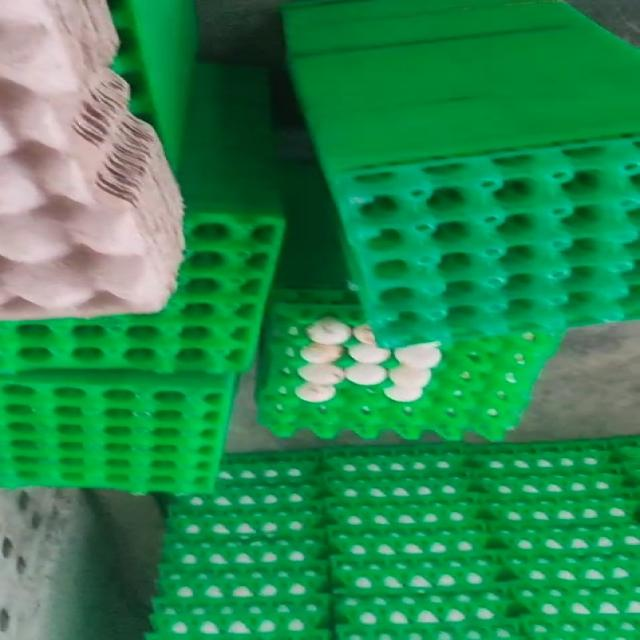egg_tray: (155, 439, 639, 639), (325, 439, 639, 639), (333, 137, 636, 343), (324, 439, 639, 589), (0, 213, 280, 373), (260, 303, 560, 439), (333, 529, 636, 637), (154, 453, 328, 638), (325, 441, 636, 541), (324, 438, 637, 536), (332, 500, 639, 593), (0, 371, 234, 492), (324, 438, 639, 526), (336, 549, 636, 625), (324, 441, 636, 507), (329, 501, 502, 596), (162, 506, 325, 605), (181, 213, 283, 370), (276, 307, 441, 404), (337, 587, 639, 639), (154, 547, 328, 637), (108, 0, 193, 165), (171, 452, 323, 544), (158, 532, 328, 614), (333, 550, 637, 594), (324, 437, 639, 478), (159, 532, 327, 607), (296, 317, 441, 402), (165, 519, 325, 577), (163, 550, 327, 605), (337, 590, 513, 638), (515, 572, 639, 637), (175, 485, 321, 540), (153, 595, 329, 639), (339, 615, 639, 639), (333, 556, 502, 595), (108, 0, 157, 130), (503, 523, 639, 562), (482, 492, 636, 526), (324, 444, 471, 479), (498, 550, 636, 586), (217, 451, 321, 489), (337, 620, 524, 639), (526, 613, 639, 639), (147, 630, 214, 639), (352, 574, 374, 592), (260, 540, 283, 556), (601, 605, 637, 614), (165, 585, 189, 596), (541, 532, 561, 544), (304, 630, 329, 639), (262, 545, 274, 562), (406, 541, 419, 553), (434, 545, 450, 553), (498, 527, 509, 538), (529, 565, 541, 575), (272, 632, 289, 639), (245, 632, 262, 639), (406, 541, 419, 550), (218, 633, 237, 639), (572, 480, 584, 488), (210, 554, 222, 562), (205, 590, 220, 596), (214, 559, 228, 565), (356, 547, 366, 554), (260, 590, 274, 595), (574, 607, 584, 614), (394, 611, 403, 618), (459, 545, 470, 550), (486, 635, 499, 639), (597, 481, 607, 486), (181, 623, 191, 628), (629, 440, 636, 447), (337, 571, 344, 578), (265, 557, 277, 561), (522, 544, 530, 550), (261, 627, 272, 631), (632, 532, 636, 543), (522, 544, 529, 550), (451, 512, 458, 518), (434, 542, 441, 548), (550, 483, 558, 488), (208, 554, 212, 562), (420, 635, 428, 639), (410, 541, 416, 546), (351, 575, 356, 580), (242, 560, 250, 563), (621, 635, 633, 637), (295, 552, 301, 556), (157, 608, 161, 614), (613, 635, 624, 637), (427, 534, 432, 538), (594, 608, 598, 613), (291, 628, 301, 630), (341, 582, 345, 587), (283, 368, 287, 373), (191, 521, 195, 526), (474, 635, 493, 636), (549, 546, 558, 548), (201, 522, 205, 526), (441, 549, 445, 552), (352, 571, 355, 575), (465, 548, 470, 550), (620, 635, 625, 637), (185, 562, 189, 564), (426, 635, 430, 637), (502, 445, 506, 447), (503, 635, 507, 637), (608, 626, 612, 628), (590, 598, 592, 602), (194, 589, 196, 592), (617, 548, 619, 551), (576, 547, 580, 548), (368, 611, 370, 613), (528, 485, 532, 486), (451, 638, 453, 640), (613, 606, 615, 608), (369, 565, 371, 567), (629, 636, 632, 637), (526, 638, 528, 639), (294, 625, 296, 626), (371, 541, 372, 543), (371, 521, 372, 523), (491, 518, 493, 519), (628, 446, 629, 448), (217, 567, 218, 568), (616, 441, 617, 442), (382, 541, 383, 542), (580, 636, 581, 637), (510, 540, 512, 540), (360, 450, 362, 450), (166, 574, 167, 574), (420, 636, 422, 636), (396, 450, 401, 450), (215, 548, 217, 548), (557, 612, 558, 612), (585, 522, 587, 522), (573, 522, 574, 522)
